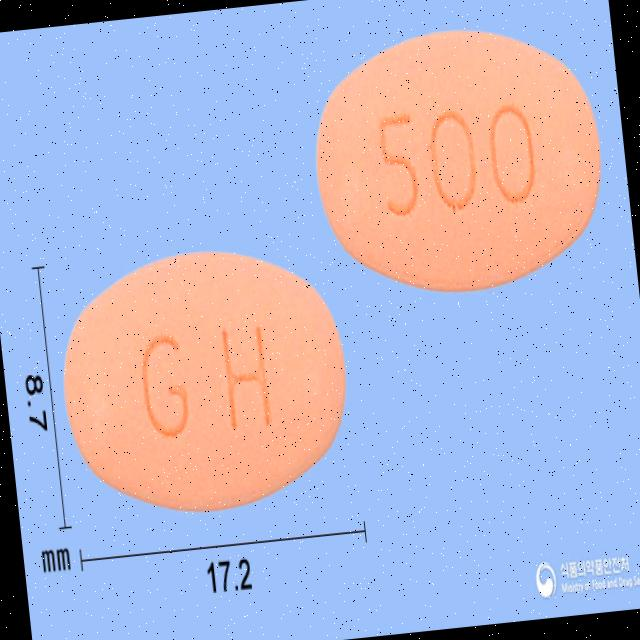Levona: (302, 12, 614, 303), (53, 237, 360, 526)
